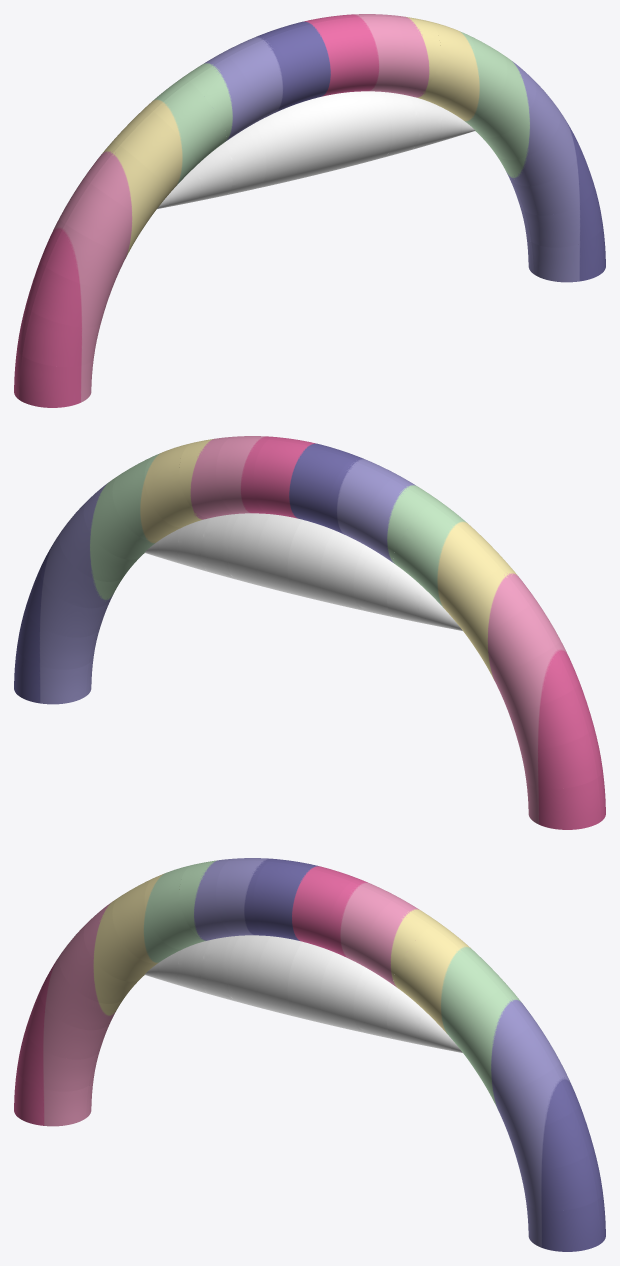
Rendered from arco.obj.
3 renders of one model, top to bottom at view 1: azimuth 30°, elevation 25°; view 2: azimuth 150°, elevation 25°; view 3: azimuth 330°, elevation 25°, orthographic.
Parts seen in each view (by area): view 1: Arco044, Arco048, Arco053, Arco050, Arco, Arco055, Arco049, Arco051, Arco045, Arco052, Arco054, Arco036 (+20 smaller); view 2: Arco026, Arco015, Arco021, Arco018, Arco024, Arco023, Arco016, Arco019, Arco017, Arco020, Arco022, Arco005 (+20 smaller); view 3: Arco040, Arco029, Arco035, Arco032, Arco038, Arco037, Arco030, Arco033, Arco031, Arco034, Arco036, Arco054 (+20 smaller).
Boxes of the visible parts, bbox=[...] form: Arco044: bbox=[65, 183, 147, 254]; Arco048: bbox=[90, 145, 170, 221]; Arco053: bbox=[120, 111, 197, 191]; Arco050: bbox=[46, 224, 127, 289]; Arco: bbox=[153, 81, 226, 164]; Arco055: bbox=[31, 267, 111, 327]; Arco049: bbox=[189, 57, 258, 140]; Arco051: bbox=[22, 311, 100, 366]; Arco045: bbox=[228, 38, 293, 121]; Arco052: bbox=[19, 356, 93, 407]; Arco054: bbox=[269, 24, 329, 106]; Arco036: bbox=[310, 17, 366, 96]; Arco026: bbox=[472, 605, 554, 676]; Arco015: bbox=[449, 567, 529, 643]; Arco021: bbox=[422, 533, 499, 613]; Arco018: bbox=[492, 646, 573, 711]; Arco024: bbox=[393, 503, 466, 586]; Arco023: bbox=[508, 689, 588, 749]; Arco016: bbox=[361, 479, 430, 562]; Arco019: bbox=[519, 733, 597, 788]; Arco017: bbox=[326, 460, 391, 543]; Arco020: bbox=[526, 778, 600, 829]; Arco022: bbox=[290, 446, 350, 528]; Arco005: bbox=[253, 439, 309, 518]; Arco040: bbox=[472, 1027, 554, 1098]; Arco029: bbox=[449, 989, 529, 1065]; Arco035: bbox=[422, 955, 499, 1035]; Arco032: bbox=[492, 1068, 573, 1133]; Arco038: bbox=[393, 925, 466, 1008]; Arco037: bbox=[508, 1111, 588, 1171]; Arco030: bbox=[361, 901, 430, 984]; Arco033: bbox=[519, 1155, 597, 1210]; Arco031: bbox=[326, 882, 391, 965]; Arco034: bbox=[526, 1200, 600, 1251]; Arco036: bbox=[290, 868, 350, 950]; Arco054: bbox=[253, 861, 309, 940].
Size of the model in its own units: 22.35 by 11.17 by 2.97.
2 materials, 2 textured.
